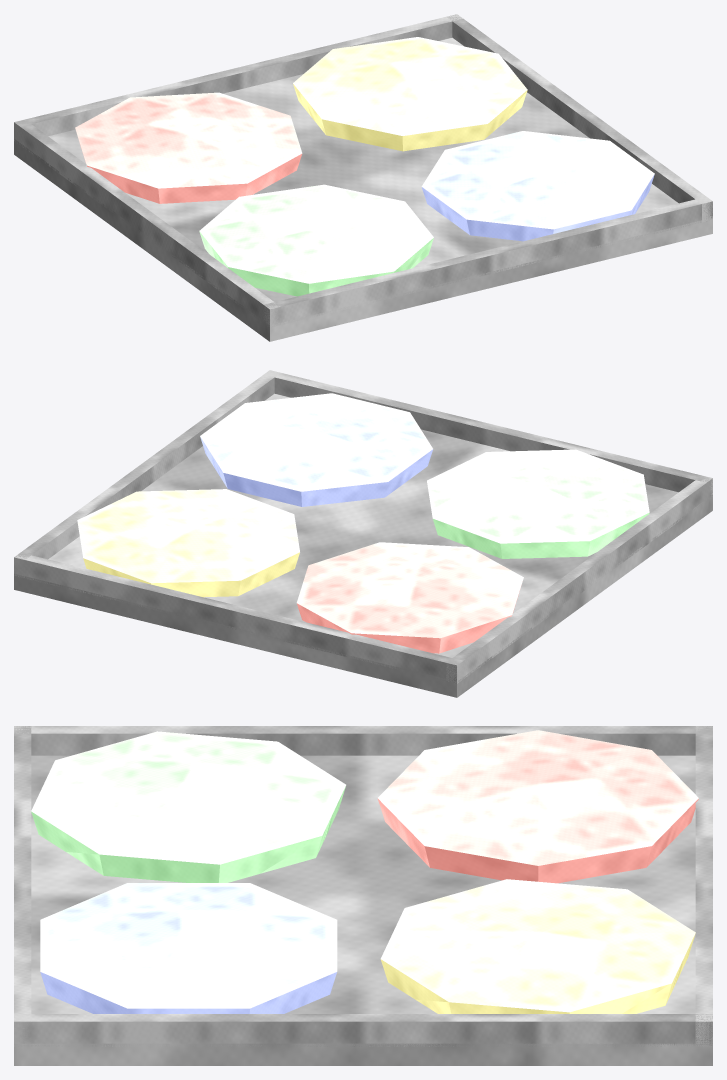
Rendered from architecture-crystal-foundation-4m.glb.
The picture shows the model from 3 angles, top to bottom: view 1: azimuth 30°, elevation 25°; view 2: azimuth 150°, elevation 25°; view 3: azimuth 270°, elevation 25°; orthographic projection. The views are drawn at different scales.
Visible parts, largest first — view 1: shadow-bed, facet-1-0, facet-0-0, facet-1-1, facet-0-1, edge-north, edge-west, edge-south, edge-east; view 2: shadow-bed, facet-1-1, facet-0-1, facet-1-0, facet-0-0, edge-south, edge-west, edge-north, edge-east; view 3: shadow-bed, facet-0-0, facet-0-1, facet-1-0, facet-1-1, edge-east, edge-west, edge-north, edge-south.
Part boxes in pixels (box(x1,y1,x2,y2)): shadow-bed: box(14, 37, 712, 341); facet-1-0: box(293, 37, 527, 151); facet-0-0: box(75, 92, 302, 203); facet-1-1: box(421, 131, 654, 241); facet-0-1: box(199, 184, 433, 296); edge-north: box(263, 199, 712, 327); edge-west: box(14, 121, 280, 326); edge-south: box(14, 14, 462, 142); edge-east: box(446, 14, 712, 222); shadow-bed: box(14, 393, 712, 697); facet-1-1: box(200, 393, 433, 506); facet-0-1: box(427, 449, 649, 558); facet-1-0: box(77, 489, 299, 597); facet-0-0: box(296, 542, 523, 653); edge-south: box(14, 555, 463, 683); edge-west: box(446, 477, 712, 683); edge-north: box(263, 370, 712, 496); edge-east: box(14, 370, 280, 577); shadow-bed: box(14, 755, 712, 1065); facet-0-0: box(377, 730, 698, 883); facet-0-1: box(31, 731, 346, 882); facet-1-0: box(380, 879, 695, 1013); facet-1-1: box(40, 883, 337, 1013); edge-east: box(14, 1014, 712, 1046); edge-west: box(14, 726, 712, 755); edge-north: box(14, 726, 31, 1046); edge-south: box(695, 726, 712, 1046).
Bounding box in the file's own units: 4 × 0.364 × 4.
6 materials, 6 textured.
